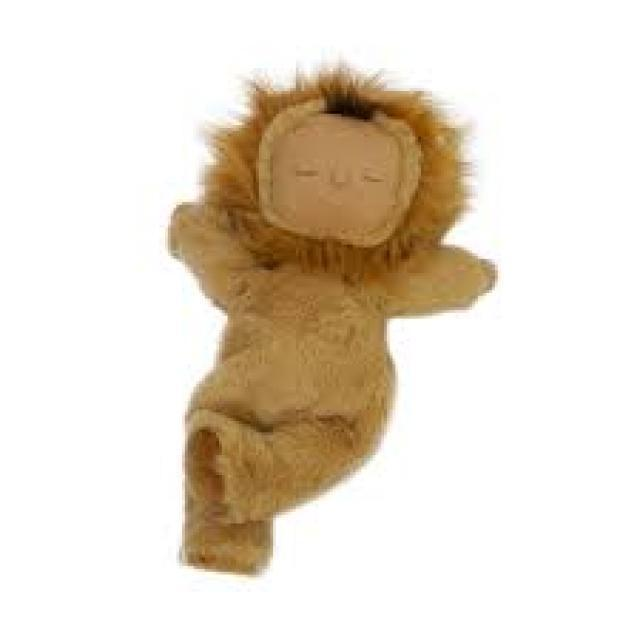soft-toy: (171, 67, 496, 573)
